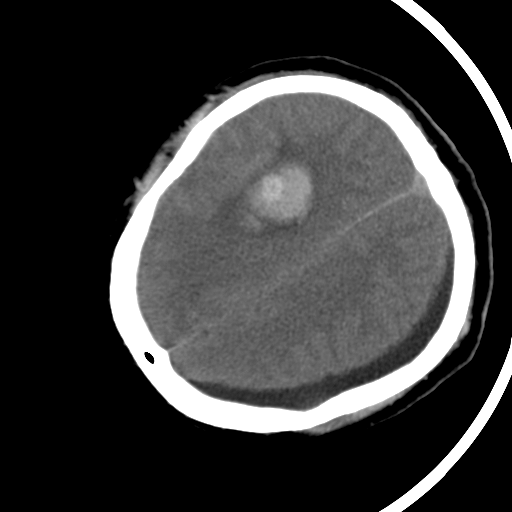a: (201, 120, 335, 255)
